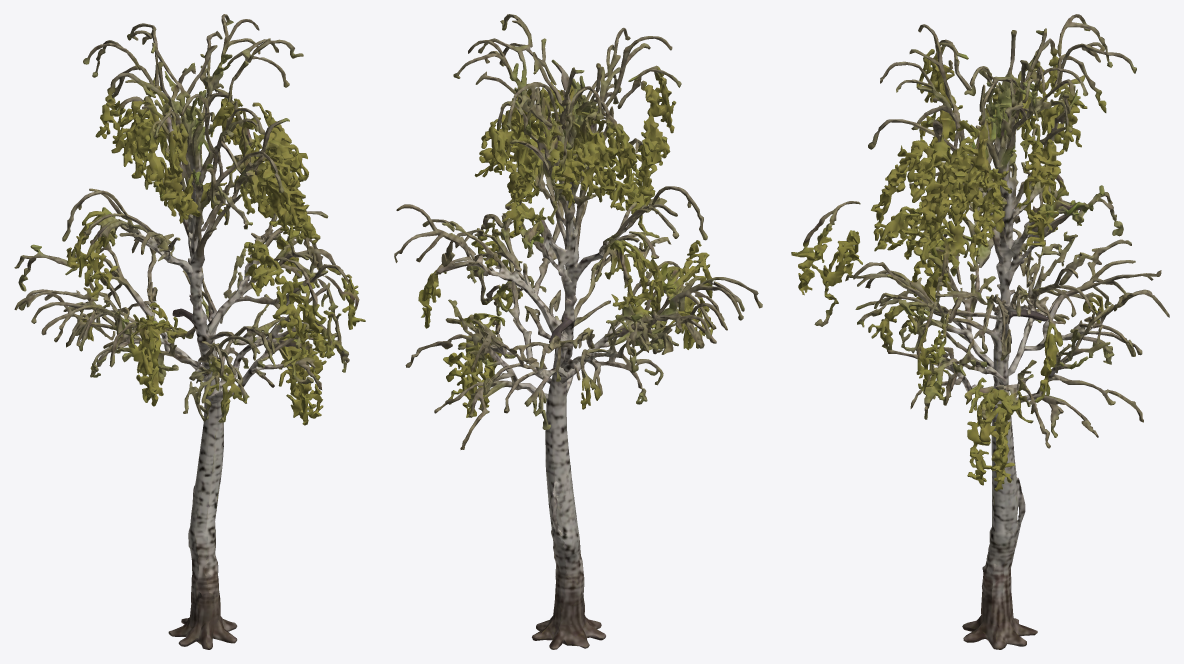
The model's file is birch-v20.glb.
3 views of the same model, side by side, from view 1: azimuth 30°, elevation 25°; view 2: azimuth 150°, elevation 25°; view 3: azimuth 270°, elevation 25° (orthographic).
Visible parts, largest first — view 1: geometry_0; view 2: geometry_0; view 3: geometry_0.
Part boxes in pixels (x1=…): geometry_0: x1=14, y1=14, x2=365, y2=649; geometry_0: x1=394, y1=14, x2=762, y2=649; geometry_0: x1=791, y1=14, x2=1169, y2=649.
Bounding box in the file's own units: 6.6 × 12 × 6.88.
Materials: 1 (1 with a texture image).
